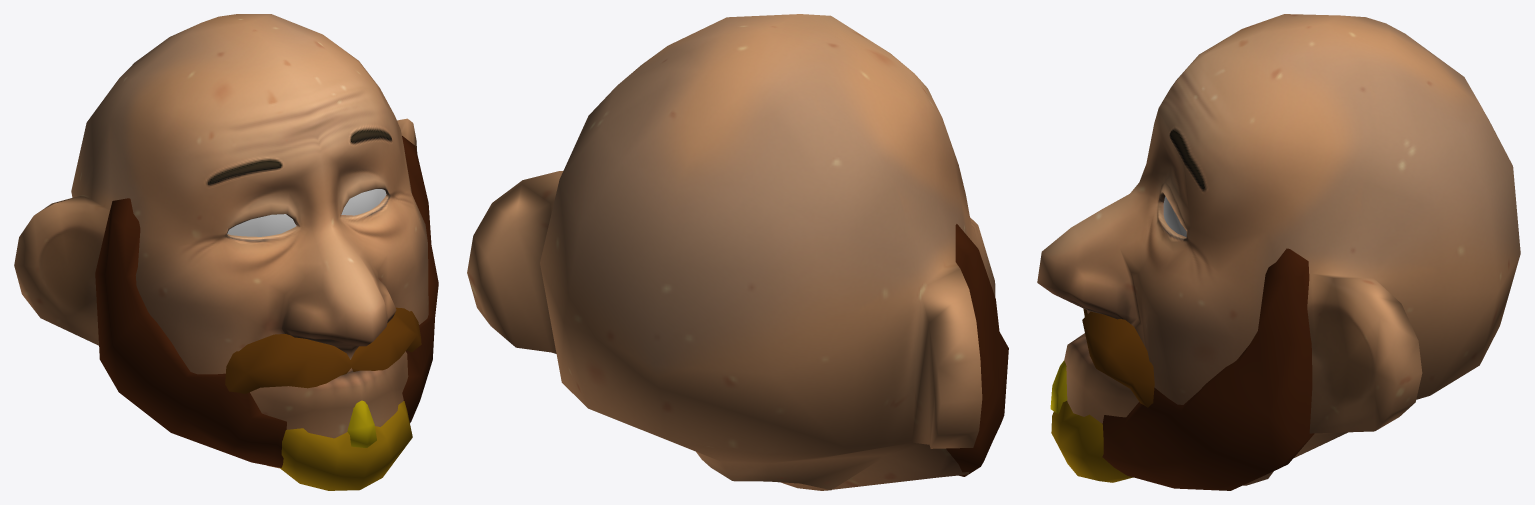
Rendered from E_pose12.fbx.
3 views of the same model, side by side, from view 1: azimuth 30°, elevation 25°; view 2: azimuth 150°, elevation 25°; view 3: azimuth 270°, elevation 25° (orthographic). The views are drawn at different scales.
Parts seen in each view (by area): view 1: HEAD, BEARD; view 2: HEAD, BEARD; view 3: HEAD, BEARD.
Part boxes in pixels (x1,y1,x2,y2): HEAD: (14,14,428,468); BEARD: (95,136,438,490); HEAD: (467,14,995,490); BEARD: (946,224,1008,476); HEAD: (1037,14,1520,485); BEARD: (1050,248,1314,490).
Bounding box in the file's own units: 27.45 × 25.4 × 24.9.
